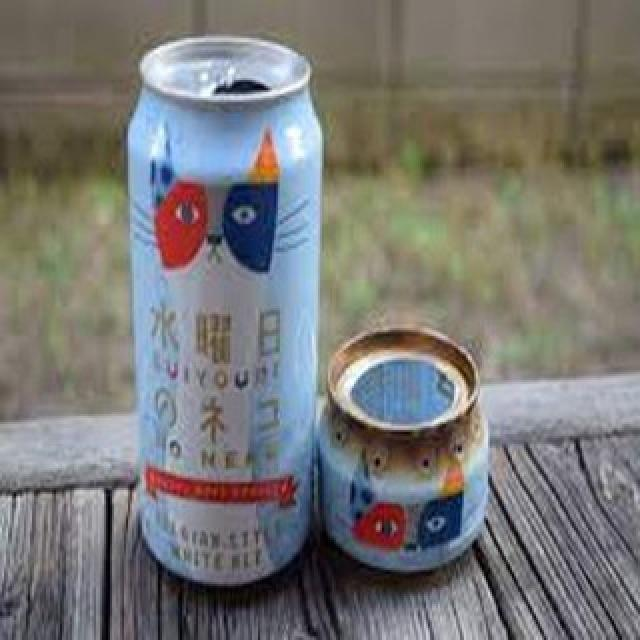Anorganik: (112, 26, 338, 584)
